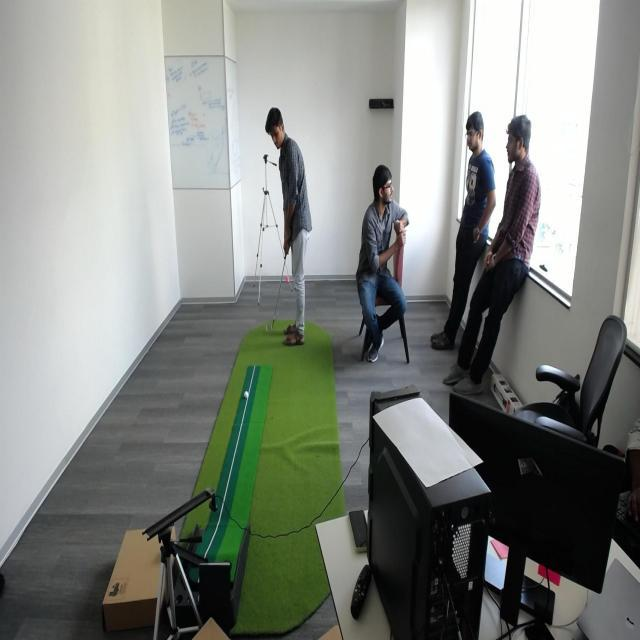ClubHead: (260, 314, 282, 338)
GolfBall: (242, 387, 251, 402)
